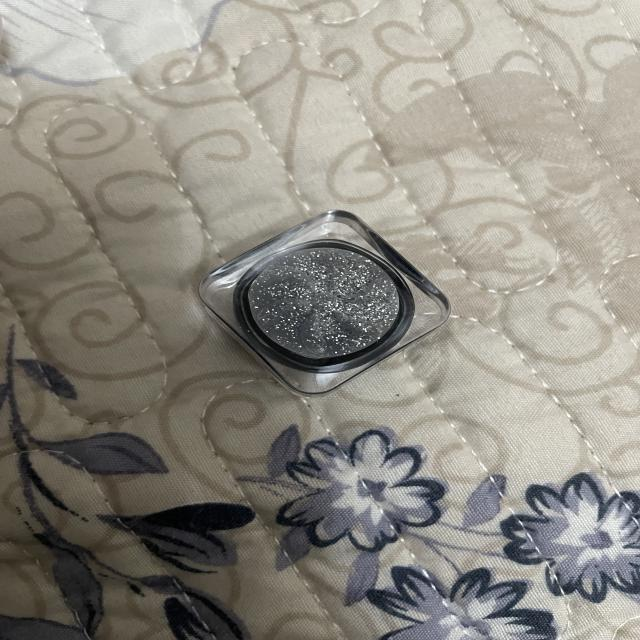eye shade: (184, 204, 492, 406)
